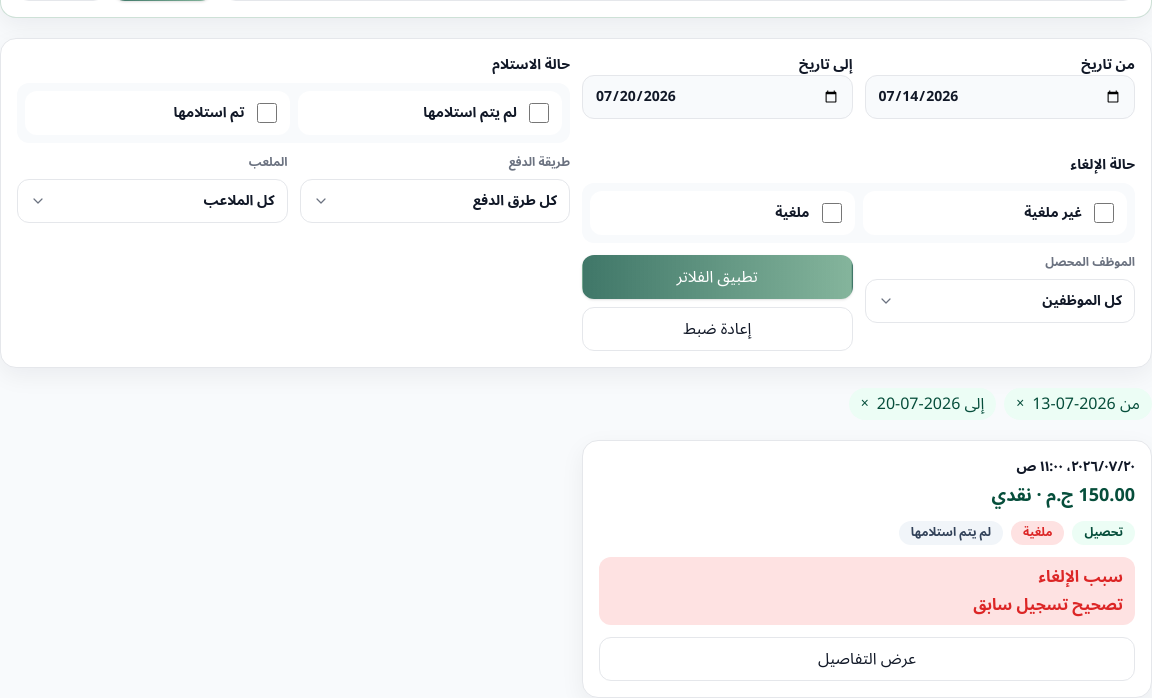
Test case: TransactionsListPage › does not expose raw cancellation actor ids in transaction details
(page scrolled)
Click the button "عرض التفاصيل": (867,659) [599,637,1135,681]
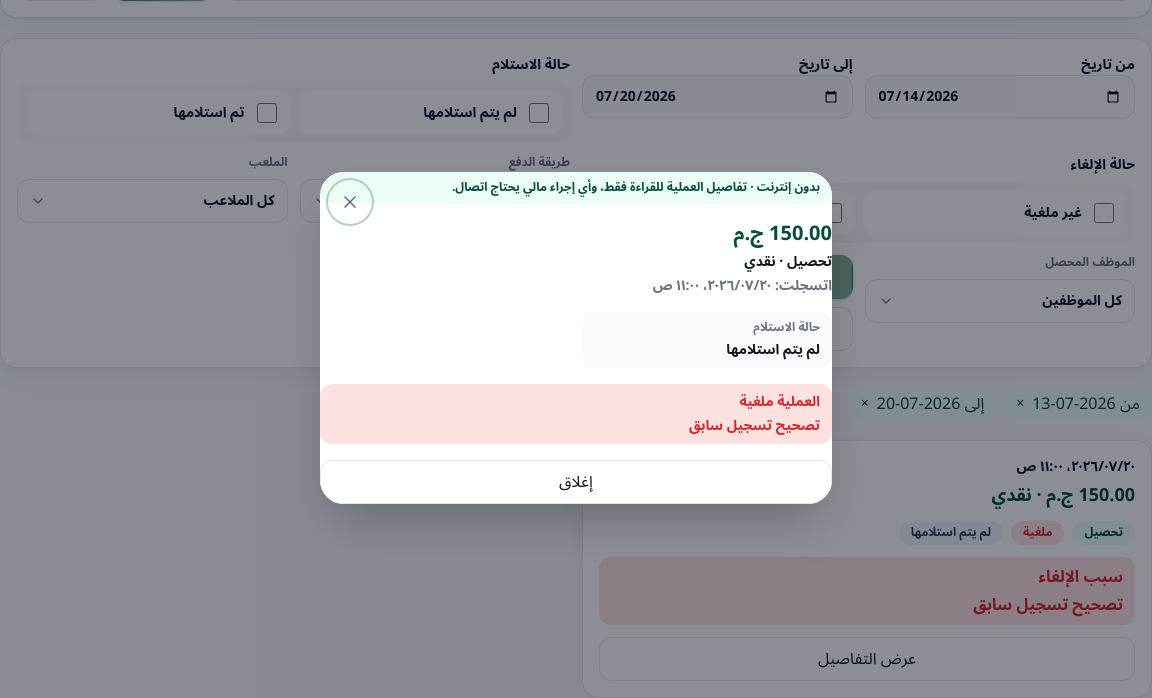
Expected: the text "تصحيح تسجيل سابق" below "سبب الإلغاء" is shown, [973,588,1123,622]
Now the dialog is shown, box [320,172,832,504]
